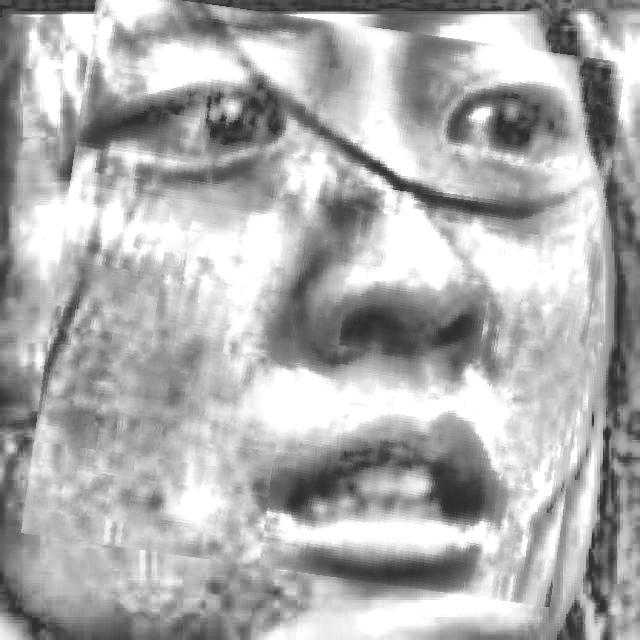fear: (39, 6, 609, 590)
